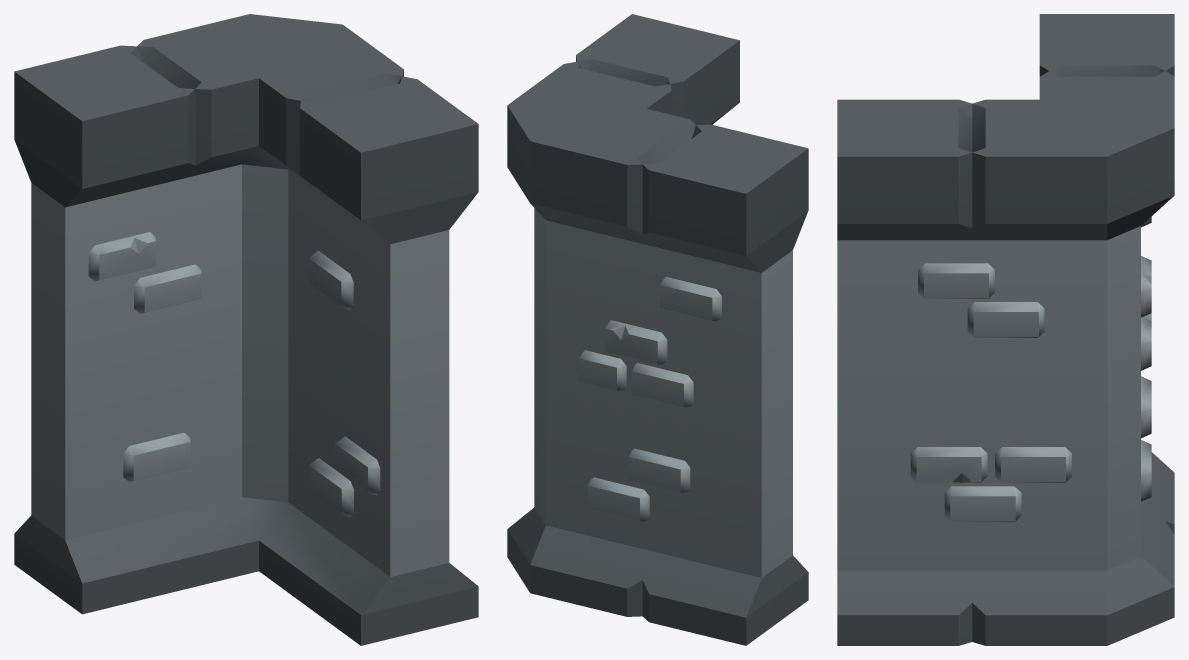
File: wall_corner5.glb
3 renders of one model, left to right at view 1: azimuth 30°, elevation 25°; view 2: azimuth 150°, elevation 25°; view 3: azimuth 270°, elevation 25°, orthographic. The views are drawn at different scales.
Parts seen in each view (by area): view 1: wall_corner; view 2: wall_corner; view 3: wall_corner.
Part boxes in pixels (bbox=[...]): wall_corner: bbox=[14, 14, 478, 645]; wall_corner: bbox=[507, 14, 808, 645]; wall_corner: bbox=[837, 14, 1174, 645].
Bounding box in the file's own units: 1.25 × 2 × 1.25.
1 material, 1 textured.
